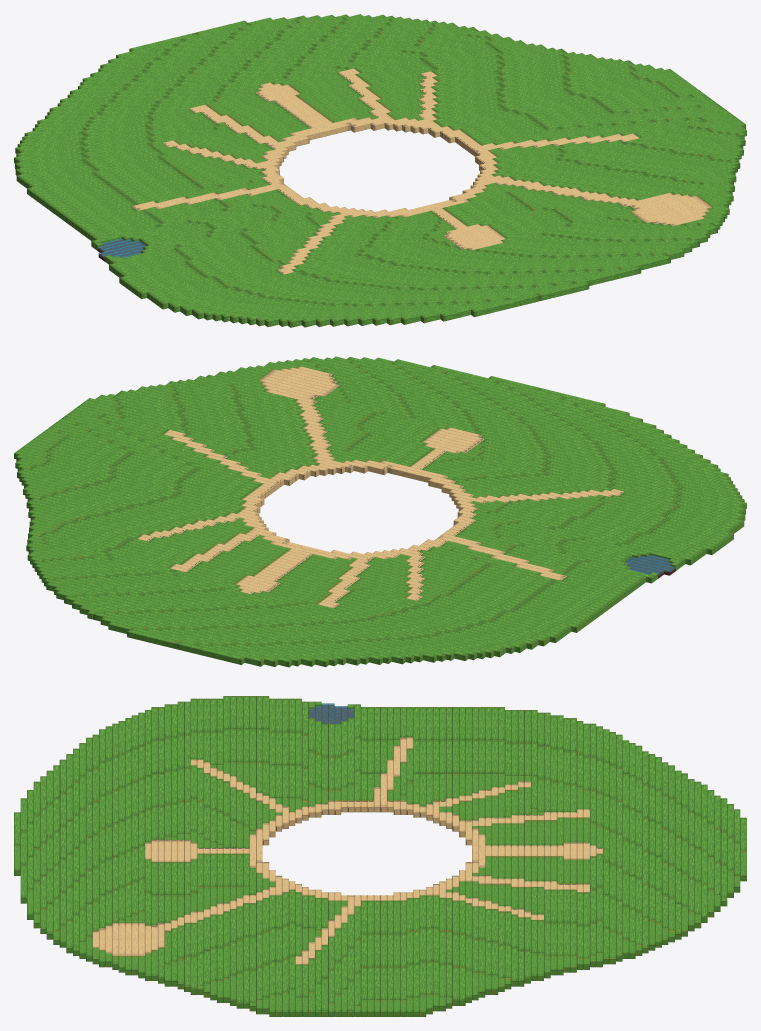
Rendered from env_island_top.fbx.
3 views of the same model, one above another, from view 1: azimuth 30°, elevation 25°; view 2: azimuth 150°, elevation 25°; view 3: azimuth 270°, elevation 25° (orthographic). The views are drawn at different scales.
Visible parts, largest first — view 1: env_island_top_3, env_island_top, env_island_top_1, env_island_top_2; view 2: env_island_top, env_island_top_3, env_island_top_2, env_island_top_1; view 3: env_island_top, env_island_top_3, env_island_top_2, env_island_top_1.
Part boxes in pixels (x1,y1,x2,y2): env_island_top_3: [153, 151, 741, 327]; env_island_top: [14, 14, 564, 188]; env_island_top_1: [27, 51, 700, 248]; env_island_top_2: [94, 92, 746, 301]; env_island_top: [26, 500, 567, 667]; env_island_top_3: [148, 356, 746, 532]; env_island_top_2: [46, 386, 734, 580]; env_island_top_1: [14, 430, 654, 633]; env_island_top: [511, 710, 746, 986]; env_island_top_3: [14, 698, 216, 1000]; env_island_top_2: [210, 696, 360, 1016]; env_island_top_1: [354, 704, 517, 1016].
Bounding box in the file's own units: 456 × 4.1 × 448.
2 materials, 2 textured.
